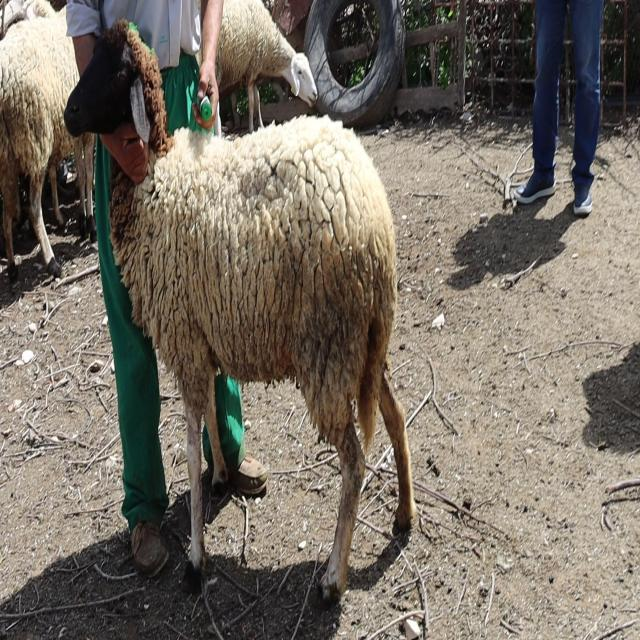Score_3: (64, 20, 416, 601)
